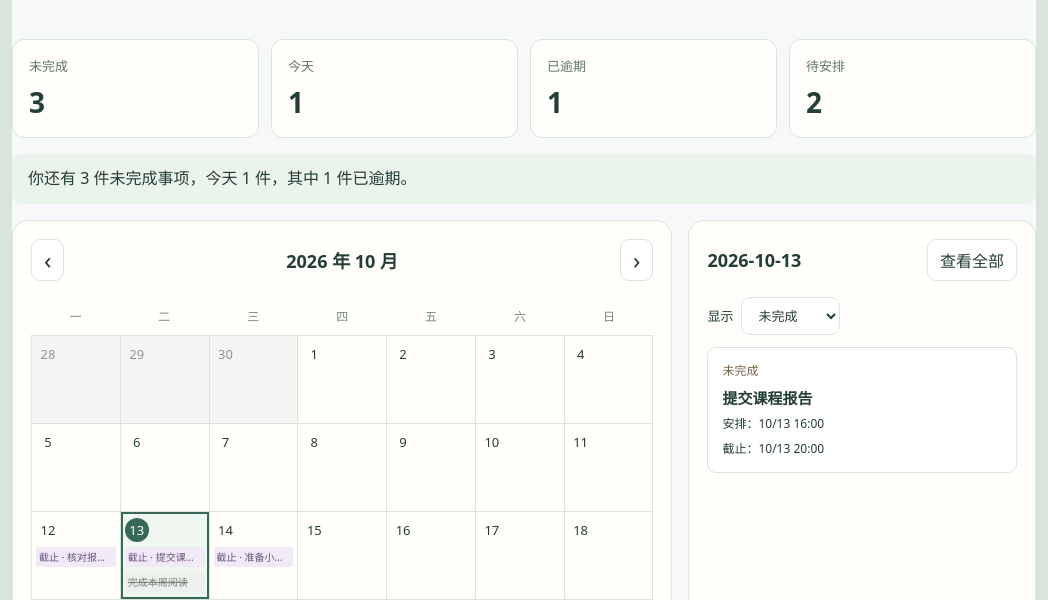
Test: calendar real-mode interactions with mocked D transport › mount and candidate selection never write; confirmation gates save
Click the button with class "calendar-task-card": (740, 370) [707,347,1017,473]
(page scrolled)
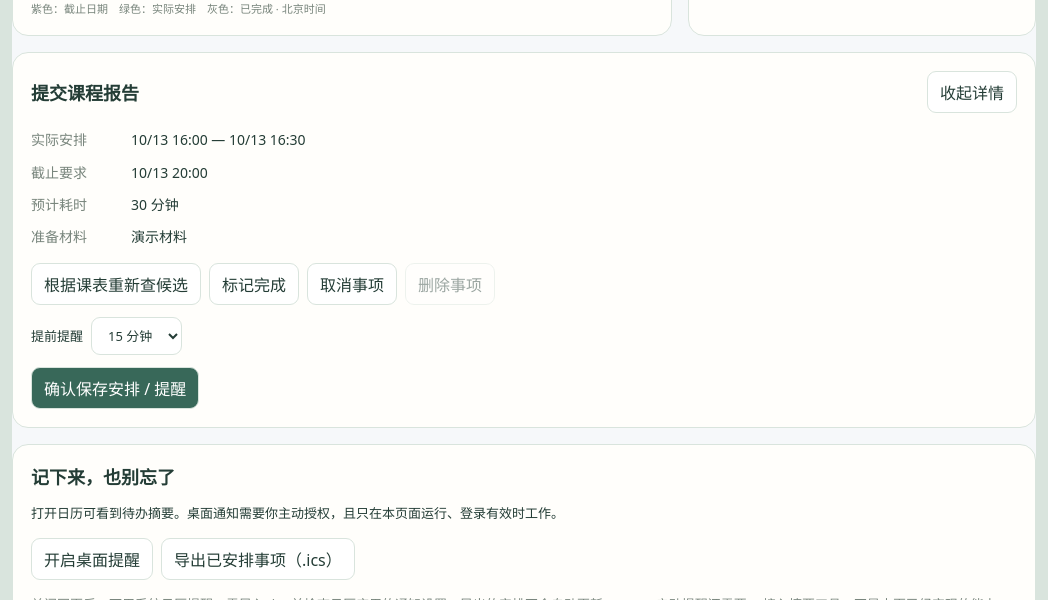
Click the button "根据课表重新查候选": (116, 284) [31,263,201,305]
(page scrolled)
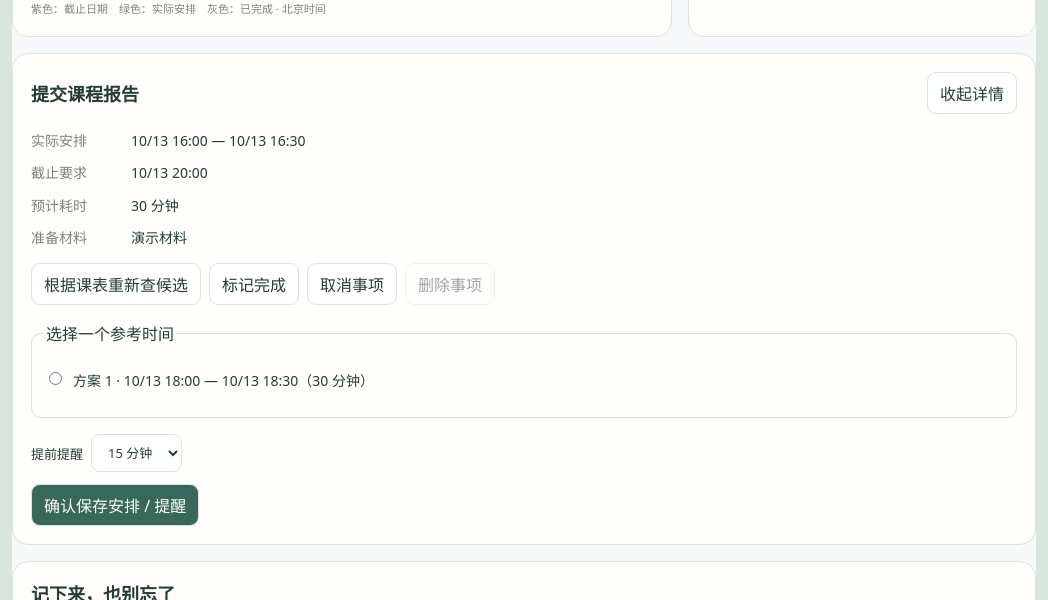
Click the radio button labelled "方案 1 · 10/13 18:00 — 10/13 18:30（30 分钟）": (56, 379) [49,372,62,385]
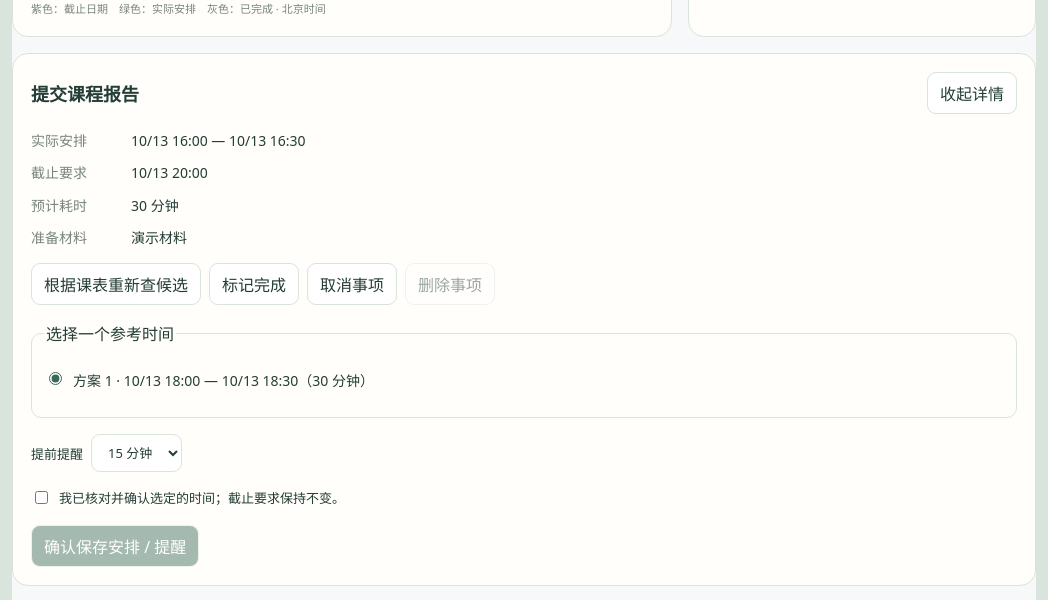
Check: the button "确认保存安排 / 提醒" is disabled, box [31,525,199,567]
Click the checkbox labelled "我已核对并确认选定的时间；截止要求保持不变。": (42, 498) [35,491,48,504]
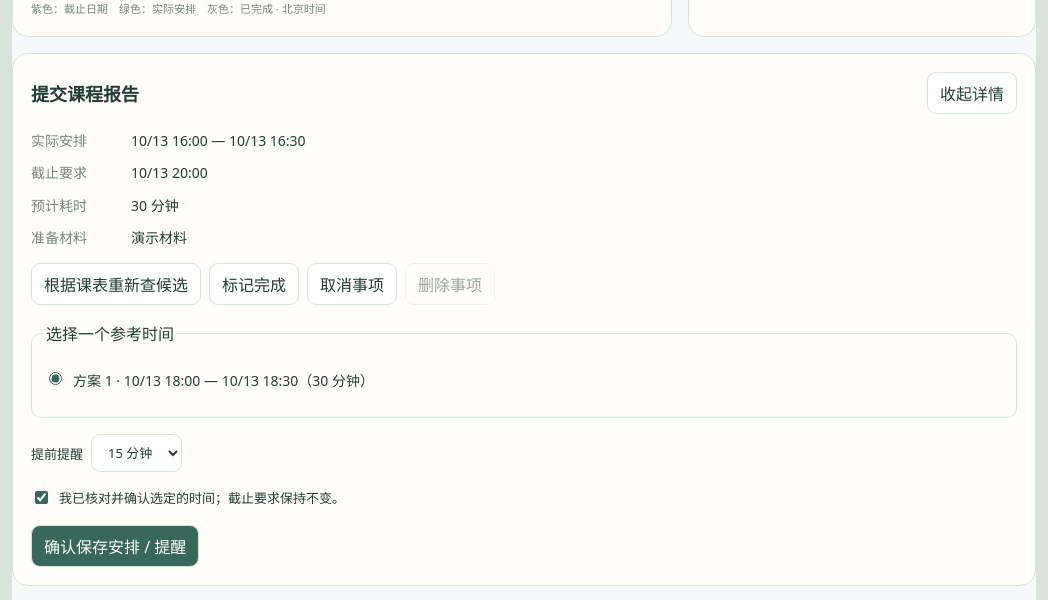
Check: the button "确认保存安排 / 提醒" is enabled, box [31,525,199,567]
